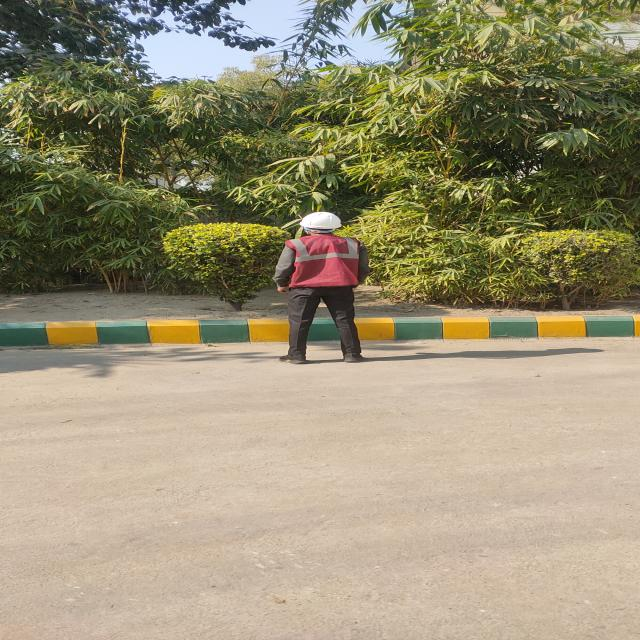safe: (273, 212, 369, 362)
